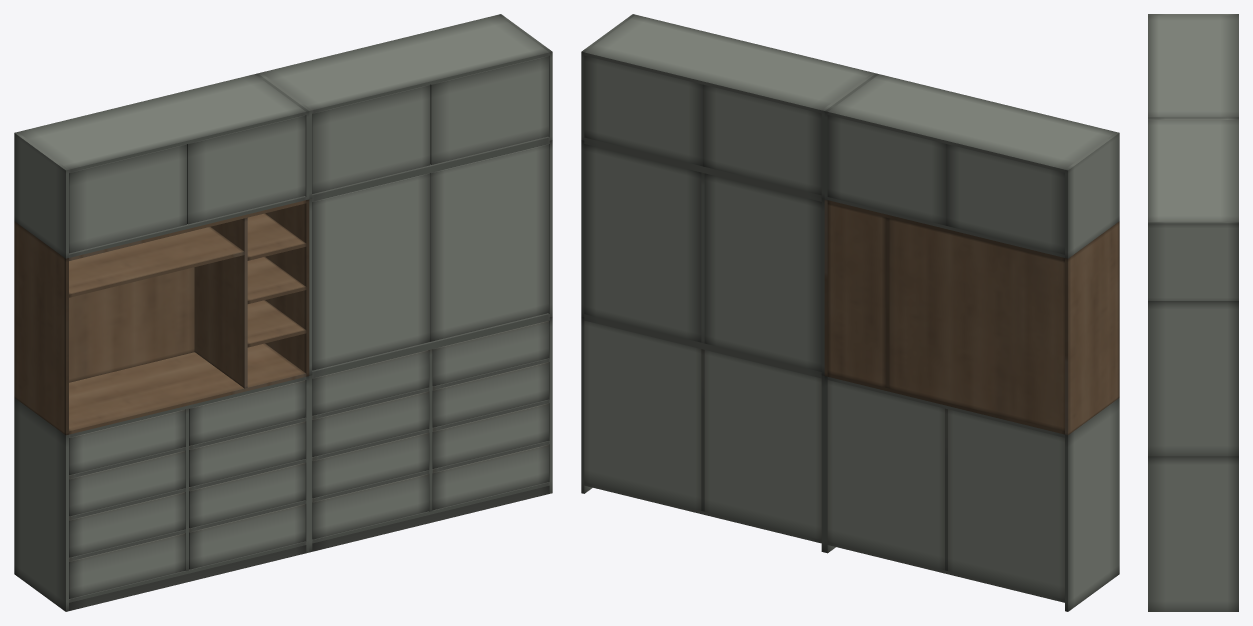
File: meublep.glb
The picture shows the model from 3 angles, left to right: view 1: azimuth 30°, elevation 25°; view 2: azimuth 150°, elevation 25°; view 3: azimuth 270°, elevation 25°; orthographic projection. The views are drawn at different scales.
Visible parts, largest first — view 1: world; view 2: world; view 3: world.
Boxes of the visible parts, x1=… form: world: x1=14, y1=14, x2=552, y2=611; world: x1=581, y1=14, x2=1119, y2=611; world: x1=1148, y1=14, x2=1238, y2=611.
Bounding box in the file's own units: 3 × 2.6 × 0.55.
1 material, 1 textured.
